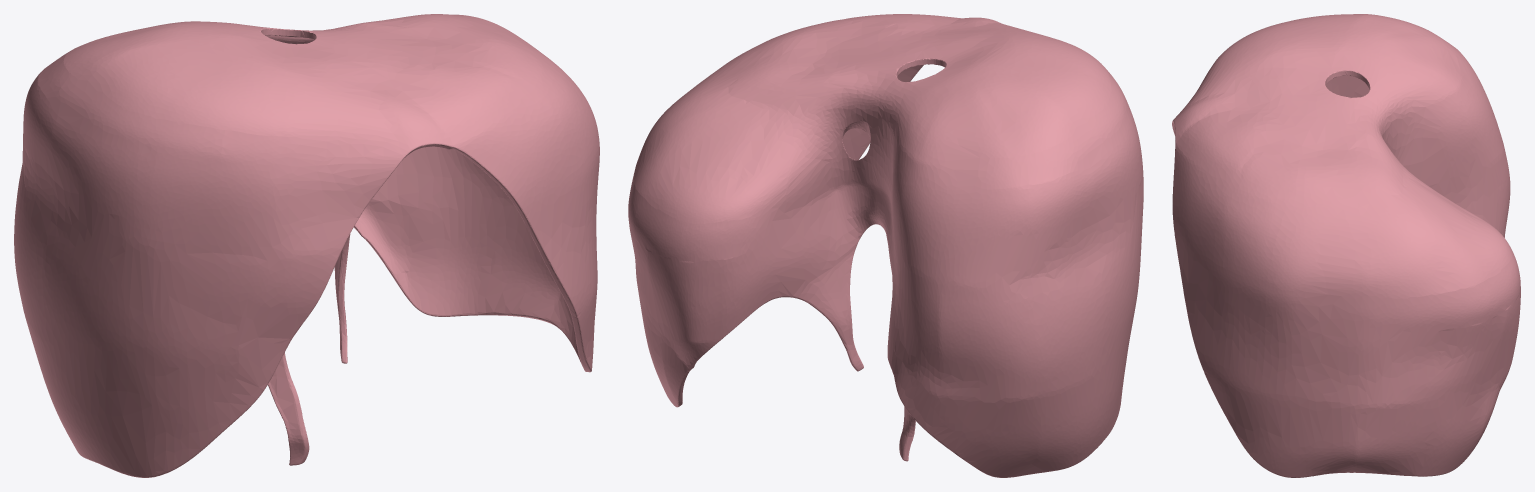
The model's file is diaframma.glb.
3 renders of one model, left to right at view 1: azimuth 30°, elevation 25°; view 2: azimuth 150°, elevation 25°; view 3: azimuth 270°, elevation 25°, orthographic. The views are drawn at different scales.
Parts seen in each view (by area): view 1: diaphragm; view 2: diaphragm; view 3: diaphragm.
Boxes of the visible parts, <box> form: diaphragm: <box>14,14,599,477</box>; diaphragm: <box>628,14,1143,477</box>; diaphragm: <box>1172,14,1520,477</box>.
Size of the model in its own units: 243 by 207 by 179.
